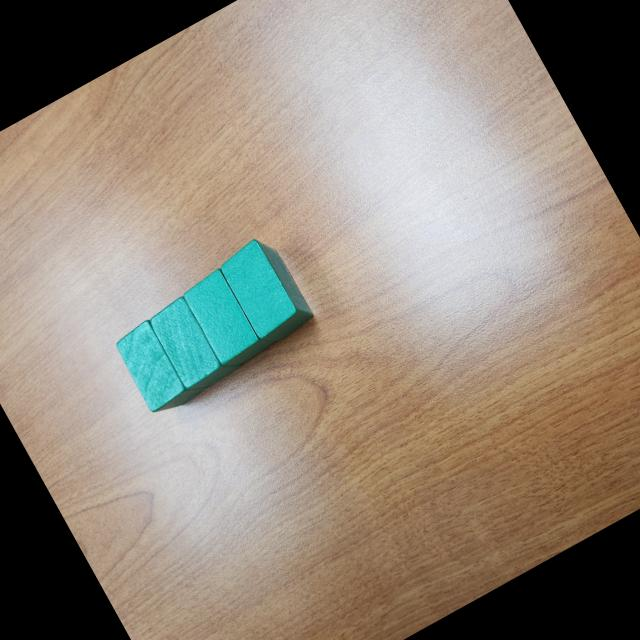green: (214, 230, 318, 352), (178, 259, 281, 377), (110, 308, 214, 422), (146, 286, 246, 398)
